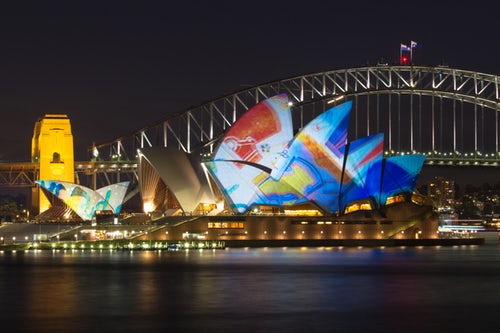opera house: (20, 87, 463, 241)
